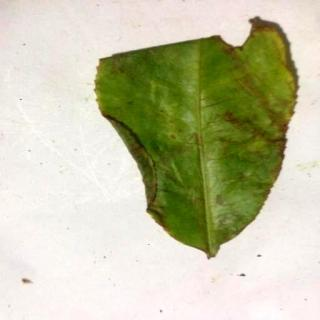Red Leaf Spot: (95, 21, 296, 260)
